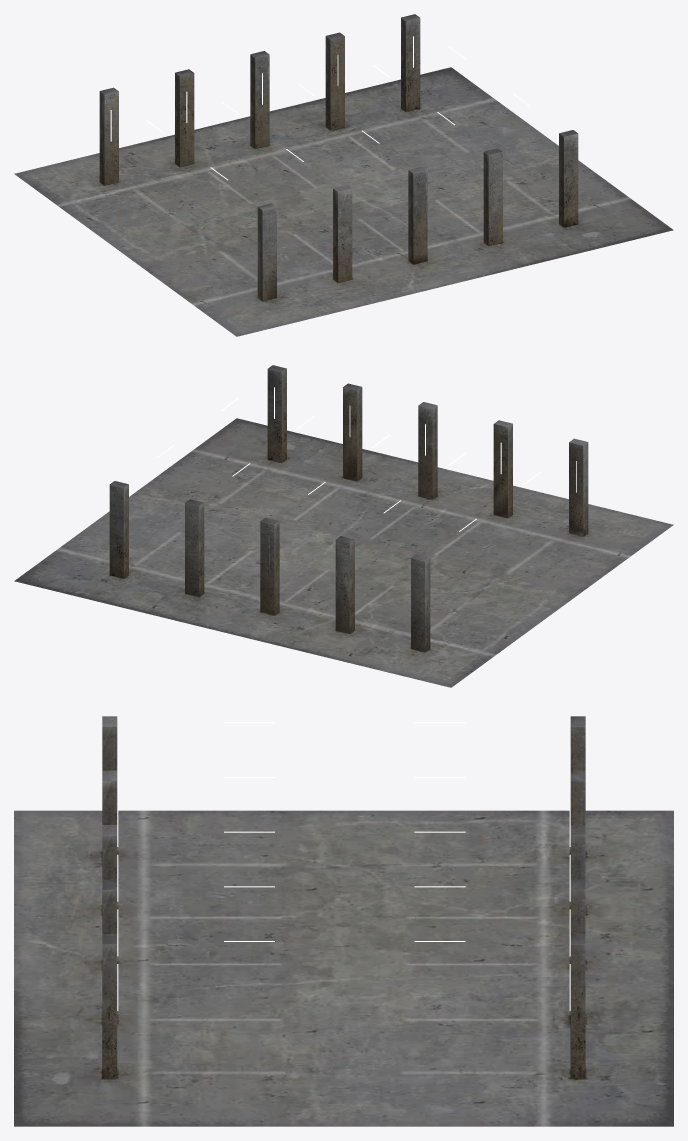
Rendered from parking-deck.lod1.glb.
3 views of the same model, one above another, from view 1: azimuth 30°, elevation 25°; view 2: azimuth 150°, elevation 25°; view 3: azimuth 270°, elevation 25° (orthographic). The views are drawn at different scales.
Visible parts, largest first — view 1: Object_2, Object_3; view 2: Object_2, Object_3; view 3: Object_2, Object_3.
Boxes of the visible parts, <box> form: Object_2: <box>14,14,673,336</box>; Object_3: <box>110,36,530,180</box>; Object_2: <box>14,365,673,687</box>; Object_3: <box>156,387,576,531</box>; Object_2: <box>14,716,673,1126</box>; Object_3: <box>117,722,570,1010</box>.
Size of the model in its own units: 24 by 4.78 by 21.18.
2 materials, 1 textured.
